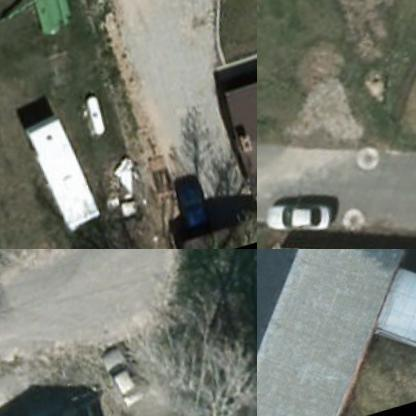camping car: (25, 112, 101, 241)
car: (257, 188, 337, 246), (94, 338, 144, 412), (166, 176, 210, 242)
